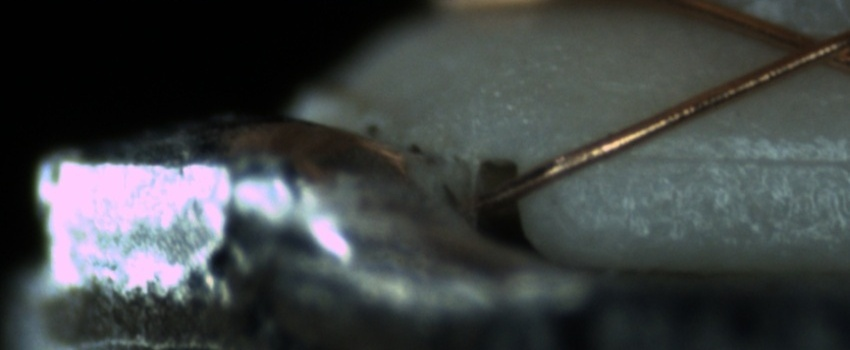CL: (767, 21, 848, 76)
DL: (612, 124, 845, 191)
